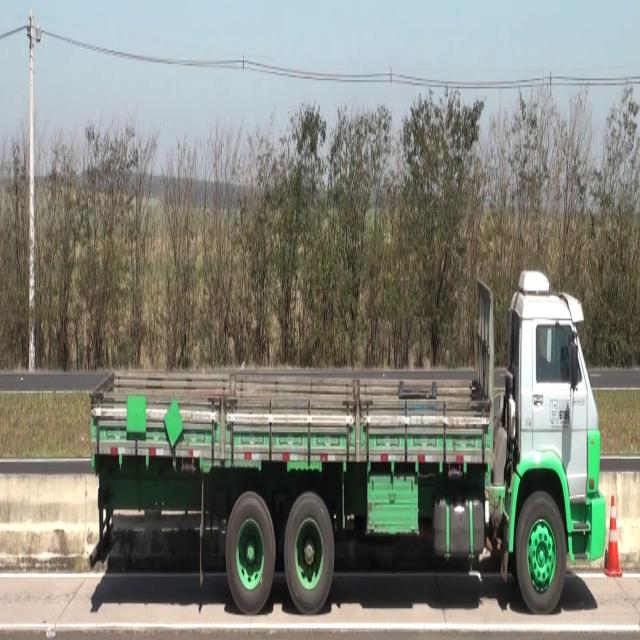-axle: (284, 491, 336, 615), (519, 491, 566, 617), (227, 492, 276, 610)
